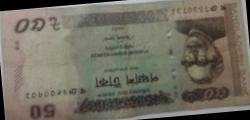50 taka: (1, 11, 250, 120)
